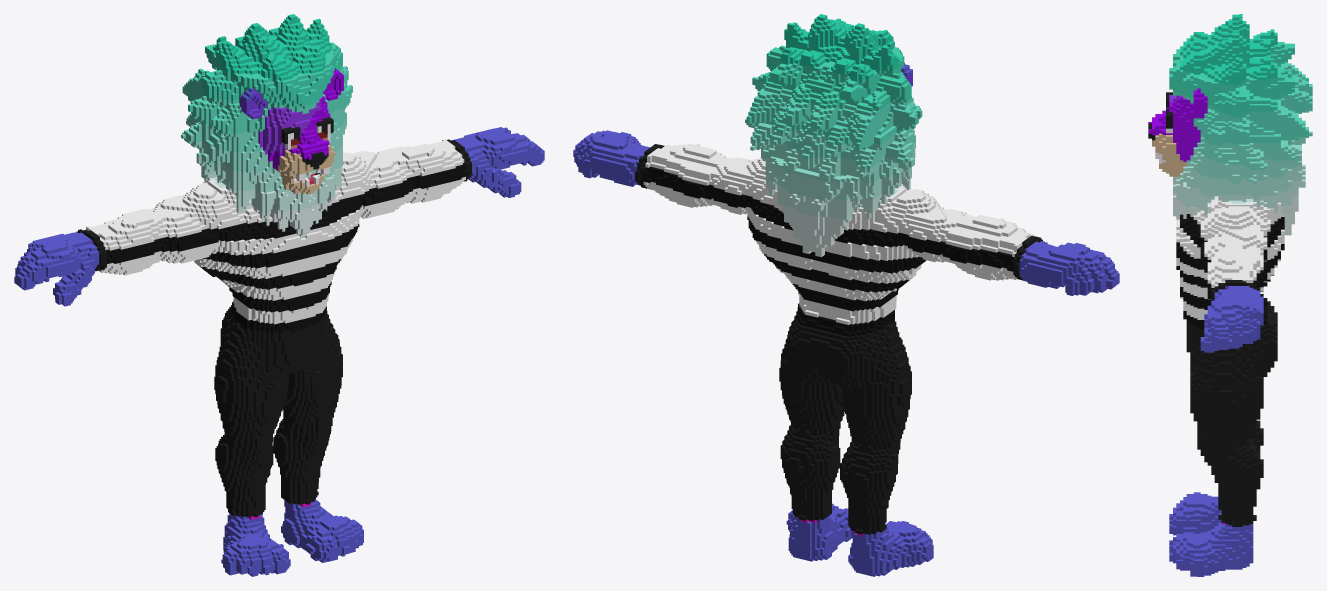
The model's file is 772-DN7XUhvE.fbx.
The picture shows the model from 3 angles, left to right: view 1: azimuth 30°, elevation 25°; view 2: azimuth 150°, elevation 25°; view 3: azimuth 270°, elevation 25°; orthographic projection. The views are drawn at different scales.
Parts seen in each view (by area): view 1: open; view 2: open; view 3: open.
Part boxes in pixels (x1,y1,x2,y2): open: (14,14,544,576); open: (573,14,1119,576); open: (1148,14,1312,576).
Size of the model in its own units: 17.2 by 16.5 by 4.7.
Materials: 5 (5 with a texture image).
